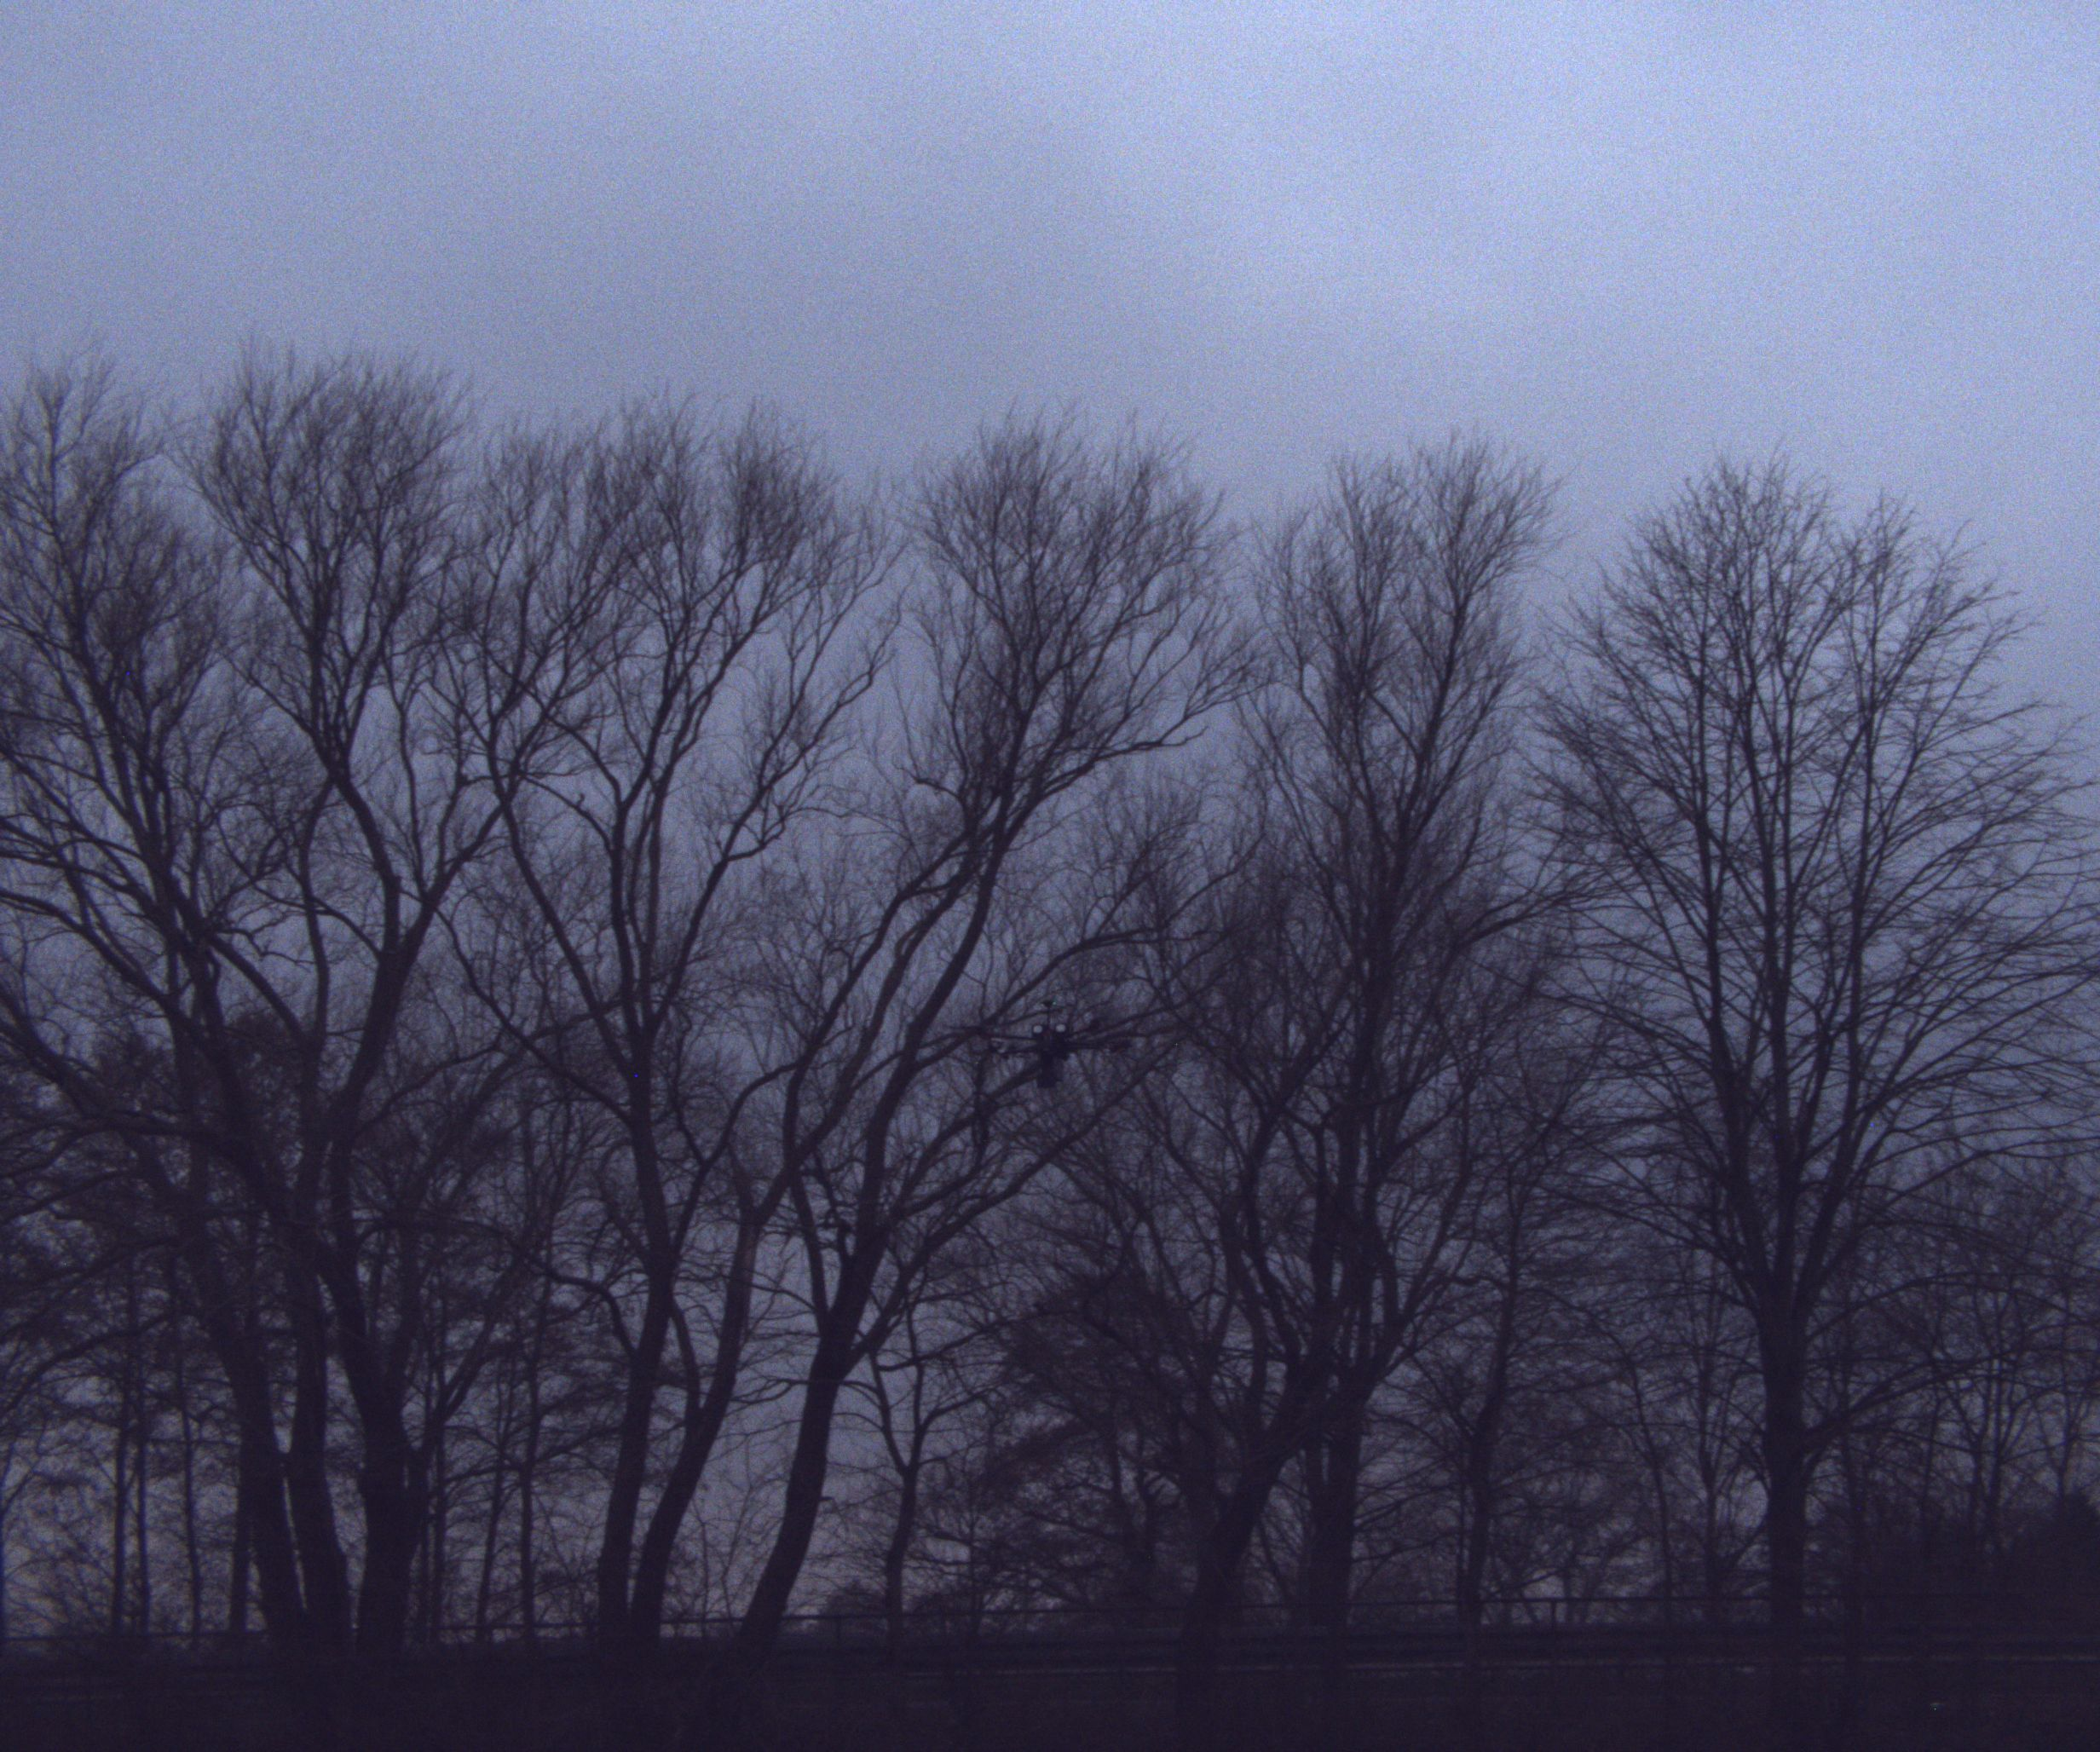Drohne: (968, 971, 1163, 1110)
